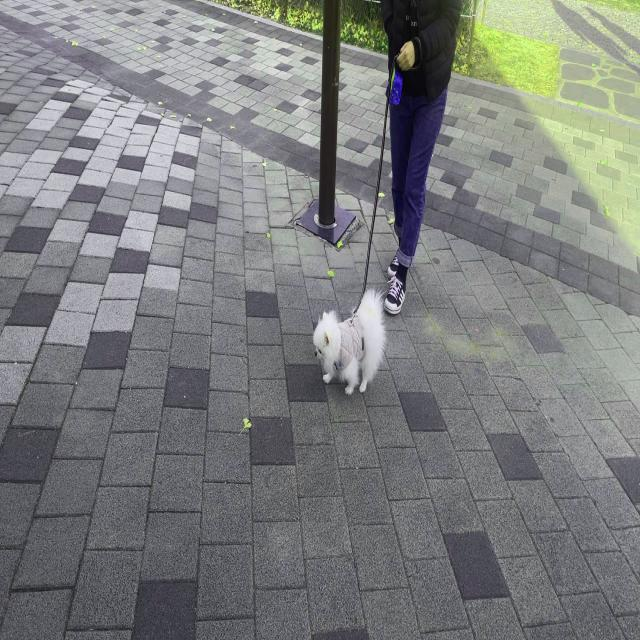Leashed_Dog: (313, 40, 427, 396)
